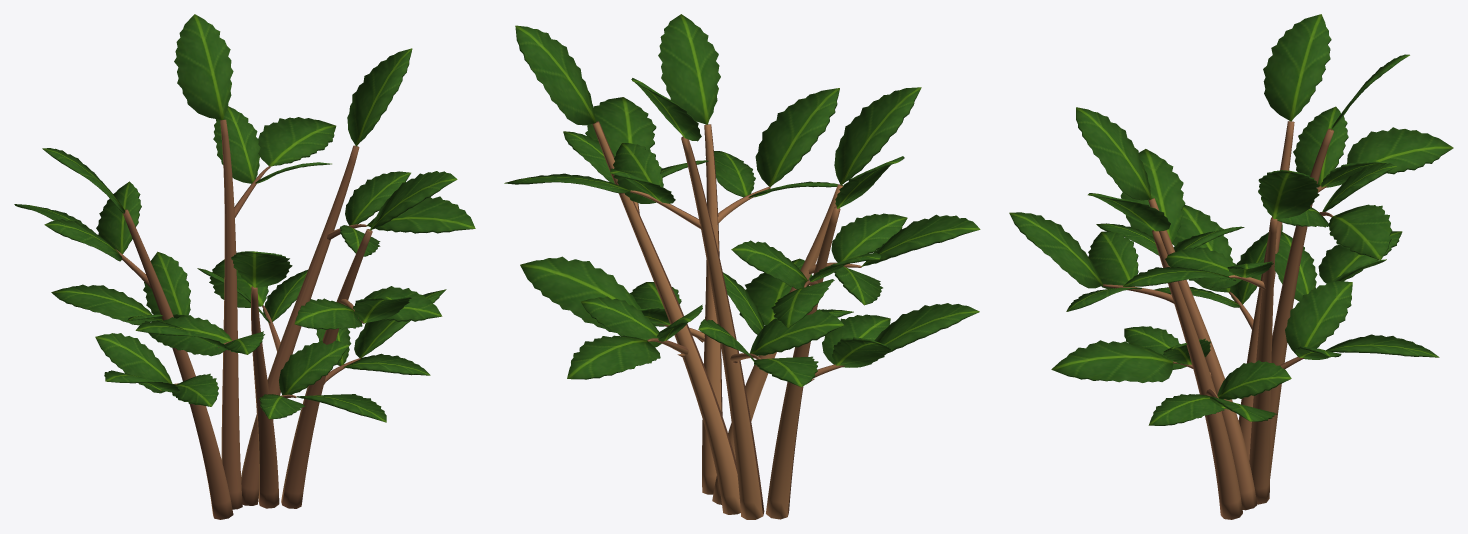
File: NP_Blackberry_Young.fbx
The picture shows the model from 3 angles, left to right: view 1: azimuth 30°, elevation 25°; view 2: azimuth 150°, elevation 25°; view 3: azimuth 270°, elevation 25°; orthographic projection. The views are drawn at different scales.
Parts seen in each view (by area): view 1: NP_Blackberry_Young; view 2: NP_Blackberry_Young; view 3: NP_Blackberry_Young.
Boxes of the visible parts, <box> form: NP_Blackberry_Young: <box>14,14,475,519</box>; NP_Blackberry_Young: <box>504,14,980,519</box>; NP_Blackberry_Young: <box>1009,14,1453,519</box>.
Bounding box in the file's own units: 45.77 × 50.39 × 44.64.
Materials: 1 (1 with a texture image).
